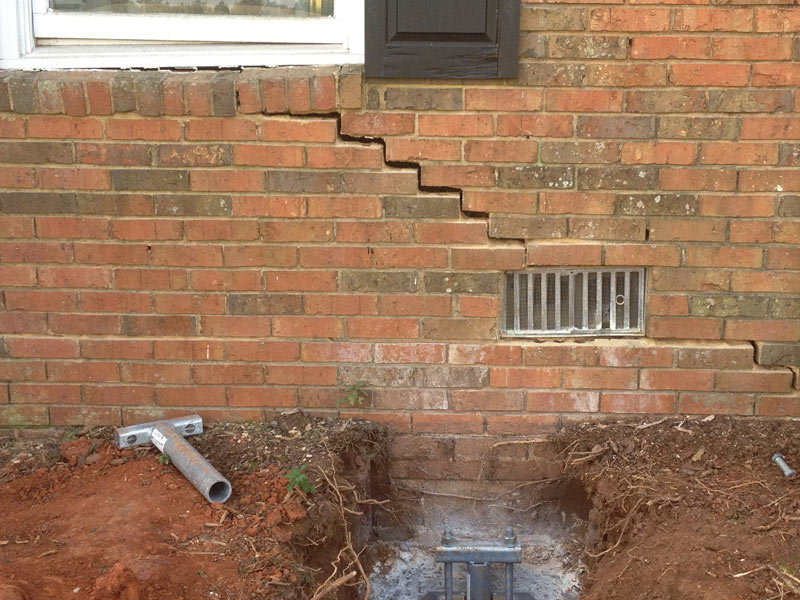stairstep_crack: (230, 78, 527, 265), (720, 337, 798, 394)
